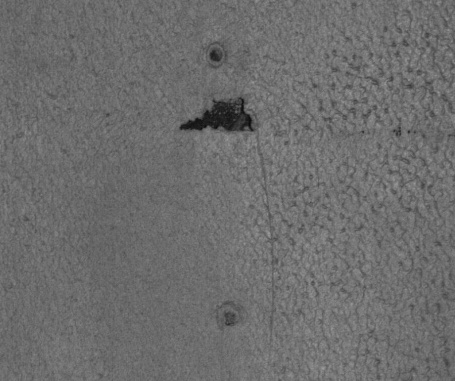剥落: (173, 87, 333, 148)
